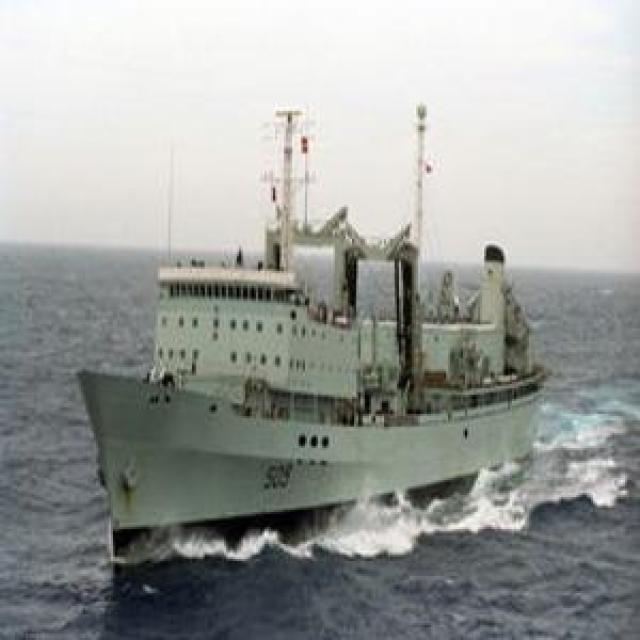navalvessels: (51, 103, 586, 544)
